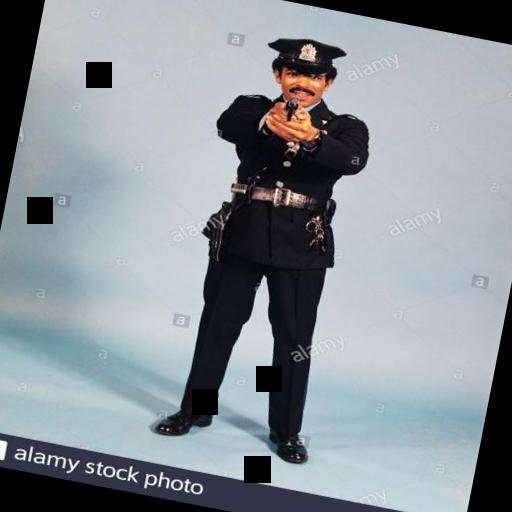Handgun: (275, 90, 302, 122)
